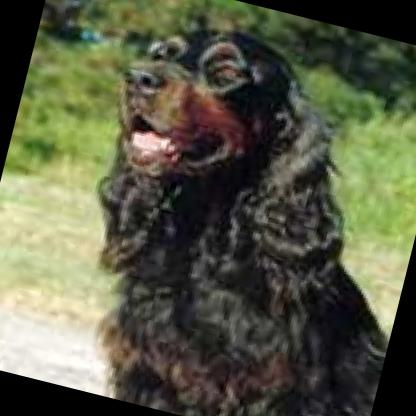Gordon_setter: (53, 9, 416, 416)
